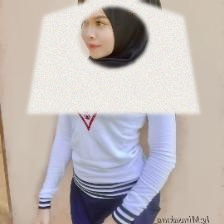Mukena: (27, 0, 199, 113)
